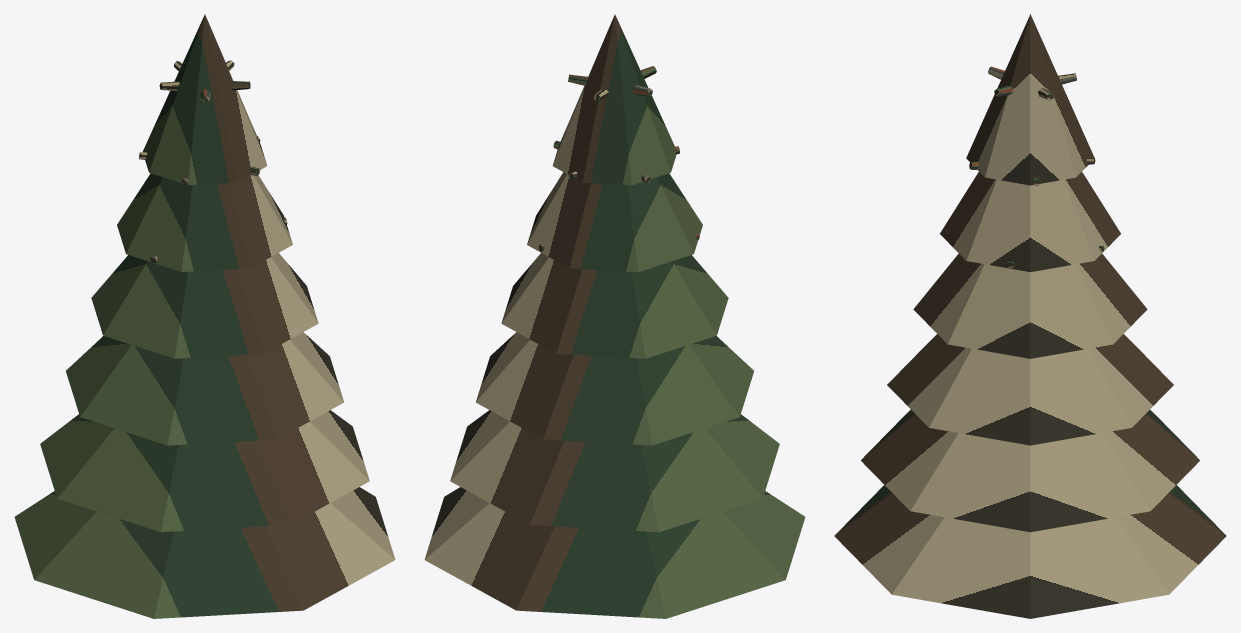
The model's file is spruceTrees.obj.
3 renders of one model, left to right at view 1: azimuth 30°, elevation 25°; view 2: azimuth 150°, elevation 25°; view 3: azimuth 270°, elevation 25°, orthographic.
Visible parts, largest first — view 1: spruceTrees; view 2: spruceTrees; view 3: spruceTrees.
Boxes of the visible parts, x1=… form: spruceTrees: x1=14, y1=14, x2=395, y2=618; spruceTrees: x1=424, y1=14, x2=805, y2=618; spruceTrees: x1=834, y1=14, x2=1226, y2=618.
Size of the model in its own units: 4.24 by 6.71 by 4.24.
1 material, 1 textured.
